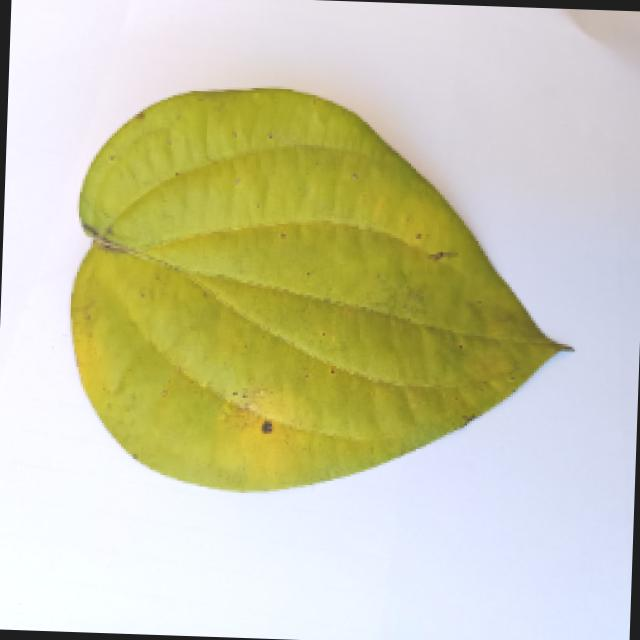slow-decline: (61, 84, 572, 506)
